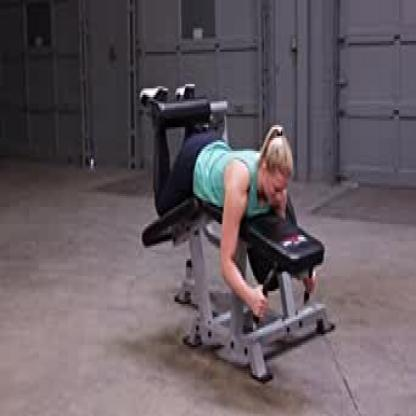reg curl machine: (139, 85, 337, 382)
